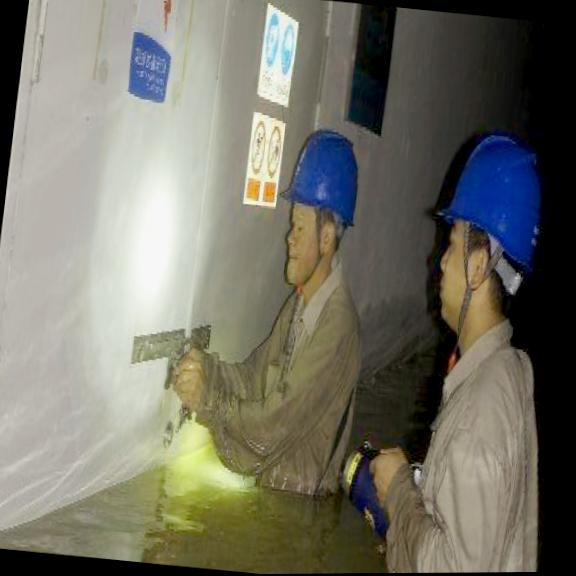no_safety_vest: (387, 318, 567, 573), (215, 273, 374, 495)
